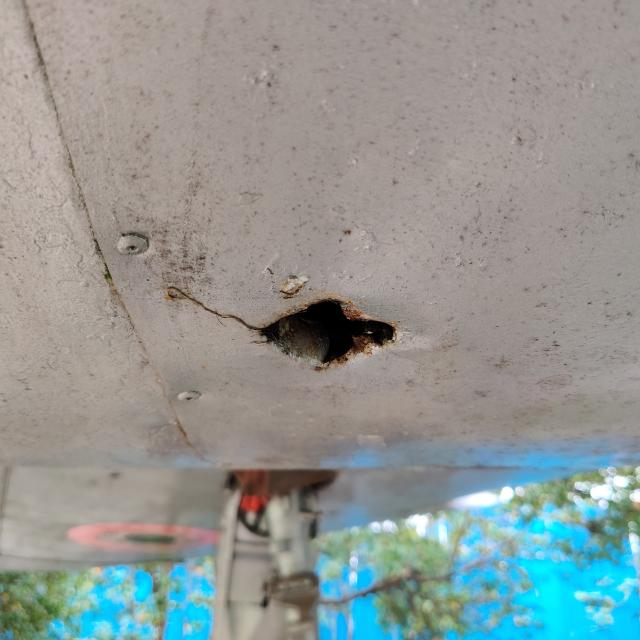crack: (152, 256, 420, 390)
